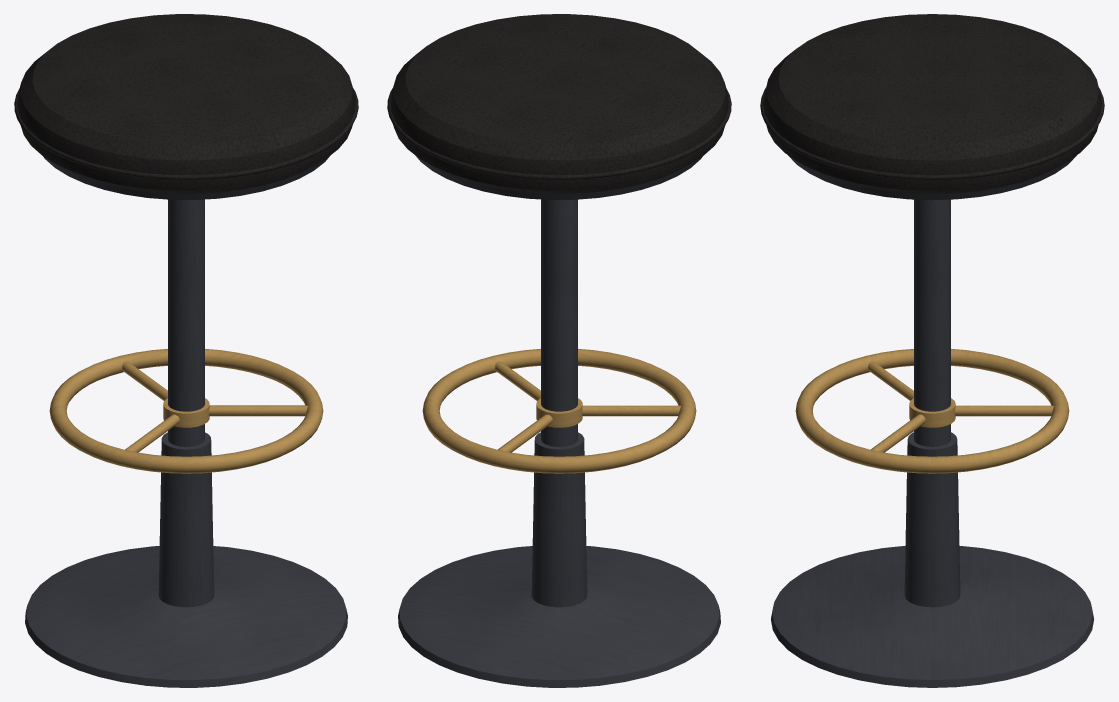
File: bar_stool.glb
3 renders of one model, left to right at view 1: azimuth 30°, elevation 25°; view 2: azimuth 150°, elevation 25°; view 3: azimuth 270°, elevation 25°, orthographic.
Visible parts, largest first — view 1: seat_leather_black_1, base_alloy_dark_0, foot_ring_brass_0, column_alloy_dark_0, column_alloy_dark_1, seat_leather_black_2, seat_alloy_dark_0, foot_ring_brass_1, foot_ring_brass_4, foot_ring_brass_2, foot_ring_brass_3; view 2: seat_leather_black_1, base_alloy_dark_0, foot_ring_brass_0, column_alloy_dark_0, column_alloy_dark_1, seat_leather_black_2, seat_alloy_dark_0, foot_ring_brass_2, foot_ring_brass_4, foot_ring_brass_3, foot_ring_brass_1; view 3: seat_leather_black_1, base_alloy_dark_0, foot_ring_brass_0, column_alloy_dark_0, column_alloy_dark_1, seat_leather_black_2, seat_alloy_dark_0, foot_ring_brass_3, foot_ring_brass_4, foot_ring_brass_1, foot_ring_brass_2.
Boxes of the visible parts, x1=… form: seat_leather_black_1: x1=17, y1=14, x2=355, y2=193; base_alloy_dark_0: x1=25, y1=546, x2=347, y2=687; foot_ring_brass_0: x1=49, y1=349, x2=323, y2=473; column_alloy_dark_0: x1=168, y1=199, x2=204, y2=446; column_alloy_dark_1: x1=158, y1=432, x2=214, y2=607; seat_leather_black_2: x1=14, y1=88, x2=358, y2=179; seat_alloy_dark_0: x1=43, y1=155, x2=330, y2=199; foot_ring_brass_1: x1=209, y1=405, x2=307, y2=416; foot_ring_brass_4: x1=163, y1=398, x2=209, y2=427; foot_ring_brass_2: x1=125, y1=414, x2=179, y2=452; foot_ring_brass_3: x1=122, y1=361, x2=167, y2=400; seat_leather_black_1: x1=390, y1=14, x2=728, y2=193; base_alloy_dark_0: x1=398, y1=546, x2=720, y2=687; foot_ring_brass_0: x1=422, y1=349, x2=696, y2=473; column_alloy_dark_0: x1=541, y1=199, x2=577, y2=446; column_alloy_dark_1: x1=531, y1=432, x2=587, y2=607; seat_leather_black_2: x1=387, y1=88, x2=731, y2=179; seat_alloy_dark_0: x1=415, y1=155, x2=702, y2=199; foot_ring_brass_2: x1=582, y1=405, x2=680, y2=416; foot_ring_brass_4: x1=536, y1=398, x2=582, y2=427; foot_ring_brass_3: x1=498, y1=414, x2=552, y2=452; foot_ring_brass_1: x1=495, y1=361, x2=540, y2=400; seat_leather_black_1: x1=763, y1=14, x2=1101, y2=193; base_alloy_dark_0: x1=771, y1=545, x2=1093, y2=687; foot_ring_brass_0: x1=795, y1=349, x2=1069, y2=473; column_alloy_dark_0: x1=914, y1=199, x2=950, y2=446; column_alloy_dark_1: x1=904, y1=432, x2=960, y2=607; seat_leather_black_2: x1=760, y1=88, x2=1104, y2=179; seat_alloy_dark_0: x1=788, y1=155, x2=1076, y2=200; foot_ring_brass_3: x1=955, y1=405, x2=1053, y2=416; foot_ring_brass_4: x1=909, y1=398, x2=955, y2=427; foot_ring_brass_1: x1=871, y1=414, x2=925, y2=452; foot_ring_brass_2: x1=868, y1=361, x2=913, y2=400.
Size of what is drawn, in the model's own units: 0.443 by 0.782 by 0.443.
Materials: 3 (3 with a texture image).
